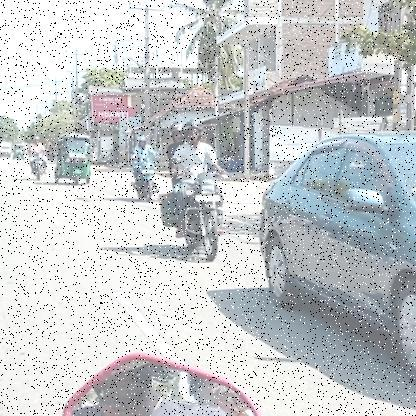motorcycle: (158, 171, 231, 263), (127, 156, 164, 207)
